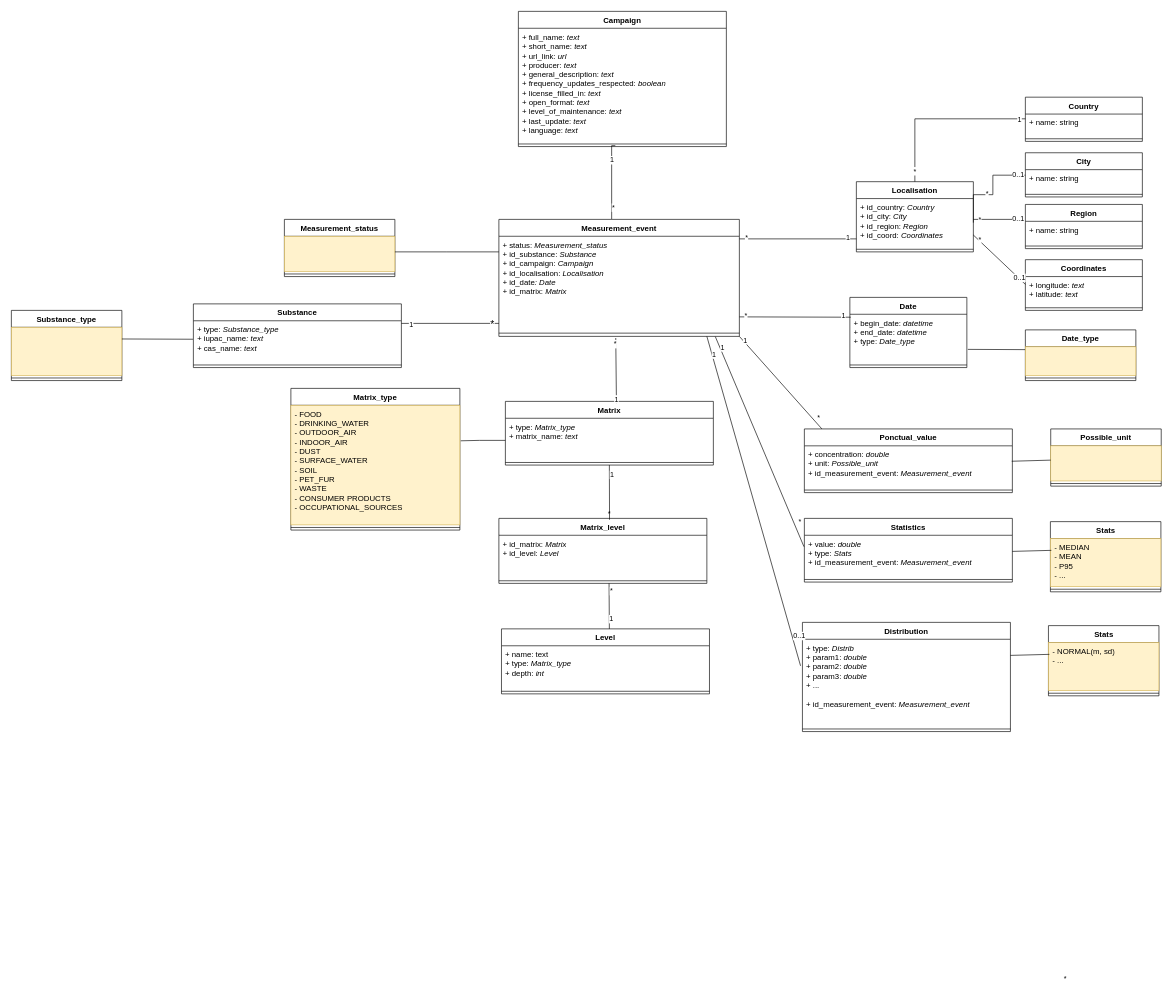
Image size: 1173x994. Some labels were removed from this diagram. Each missing label, with the centre of its shape:
"- MG/M^3 - ... - ..." belongs at (x=1105, y=463).
"- NO MEASURE - MEASURE IN PROGRESS - MEASURE" belongs at (x=339, y=253).
"- PERIOD - PONCTUAL" belongs at (x=1080, y=360).
"- PFAS - PYRETHROIDS - PLASTICIZERS - METALS" belongs at (x=66, y=351).
